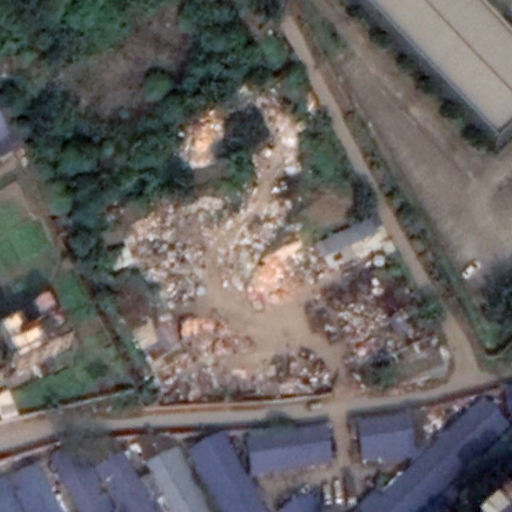msw: (107, 89, 435, 397)
